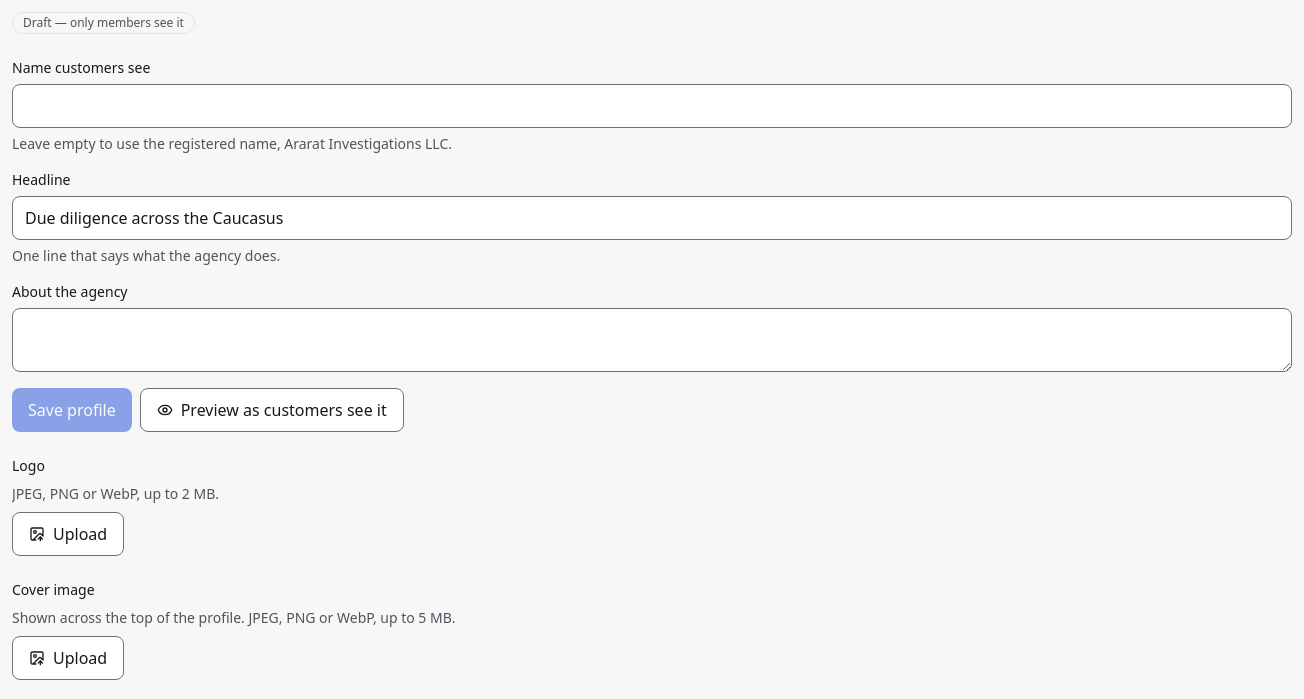
Test: the public profile editor › says to reload when someone else saved first
Type "!" into the field labelled "Headline" at (652, 218), box [12,196,1292,240]
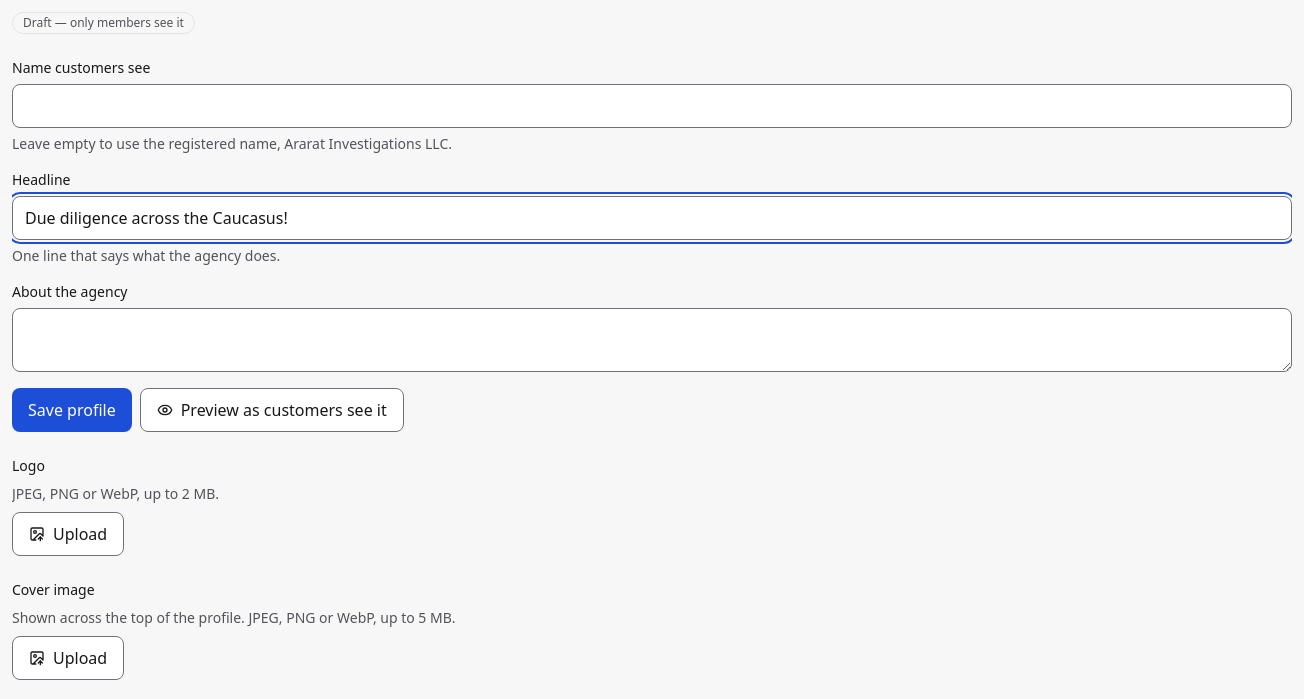
Click the button "Save profile" at (72, 410), box [12,388,132,432]
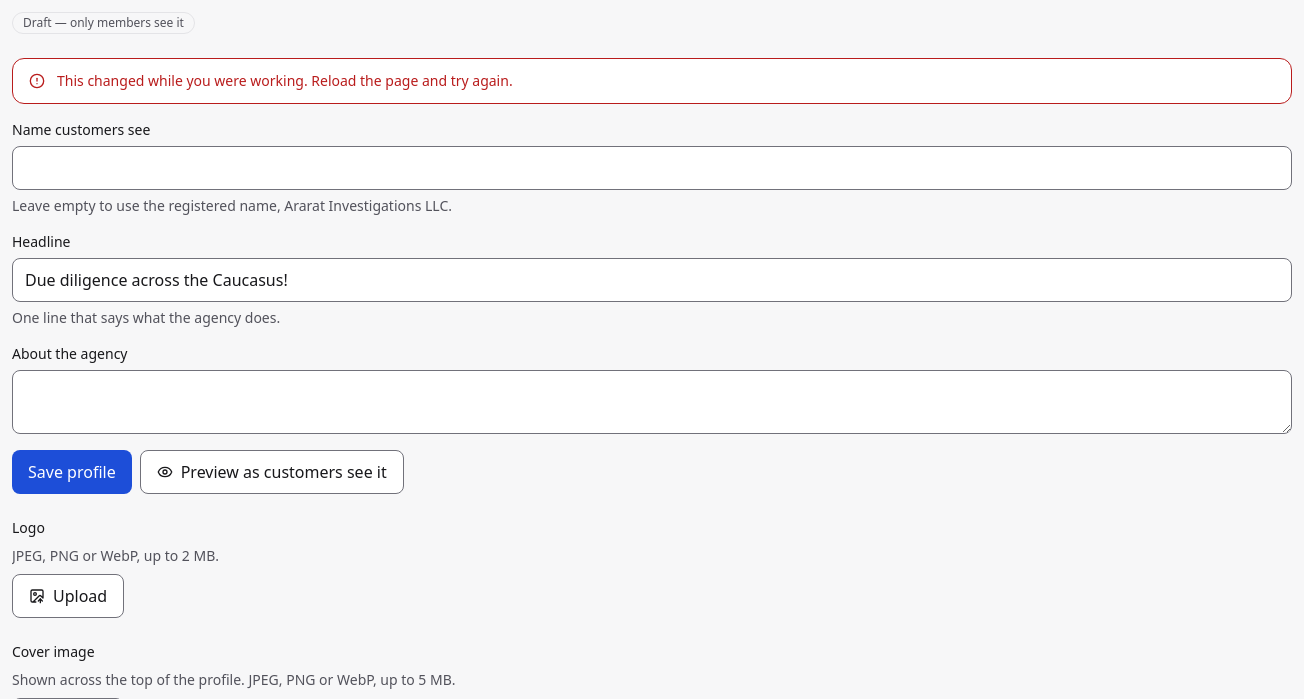
Expected: the message reads "This changed while you were working. Reload the page and try again.", [57,71,513,90]
